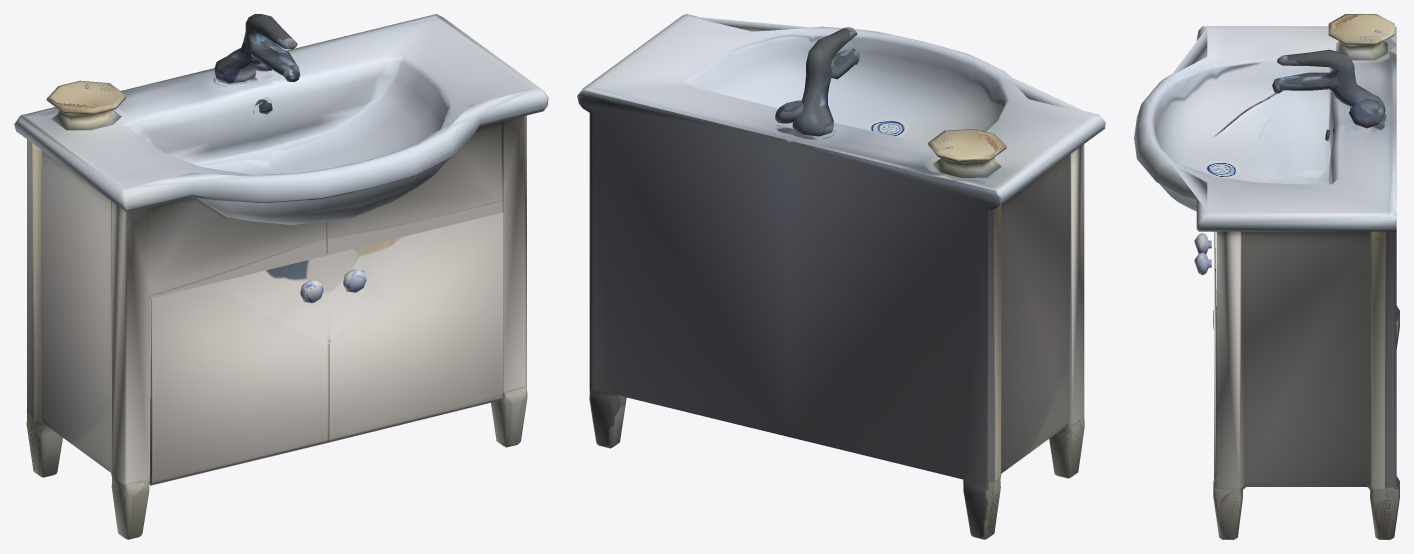
The model's file is washbasin.fbx.
3 renders of one model, left to right at view 1: azimuth 30°, elevation 25°; view 2: azimuth 150°, elevation 25°; view 3: azimuth 270°, elevation 25°, orthographic. The views are drawn at different scales.
Parts seen in each view (by area): view 1: texture_v100; view 2: texture_v100; view 3: texture_v100.
Boxes of the visible parts, bbox=[...] form: texture_v100: bbox=[14, 14, 548, 539]; texture_v100: bbox=[577, 14, 1105, 539]; texture_v100: bbox=[1134, 14, 1399, 539].
Bounding box in the file's own units: 190 × 184 × 111.
Materials: 1 (1 with a texture image).
